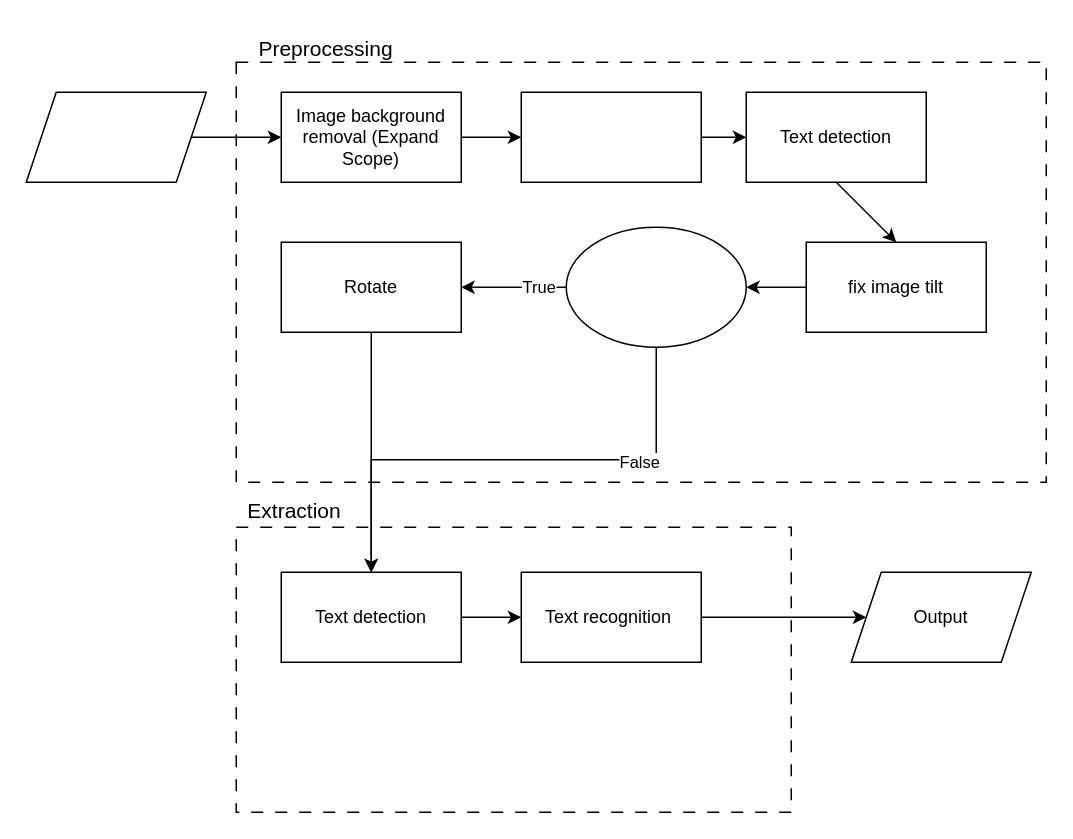
Image size: 1073x839. Some labels were removed from this diagram. The centre of each missing label's shape, as x and y in pixels:
Grayscale: point (610, 136)
Input receipt image: point (115, 136)
Upside/sideways? (Expand Scope): point (655, 286)
